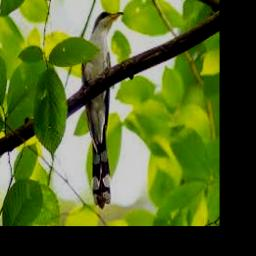Cuckoo: (82, 11, 125, 208)
